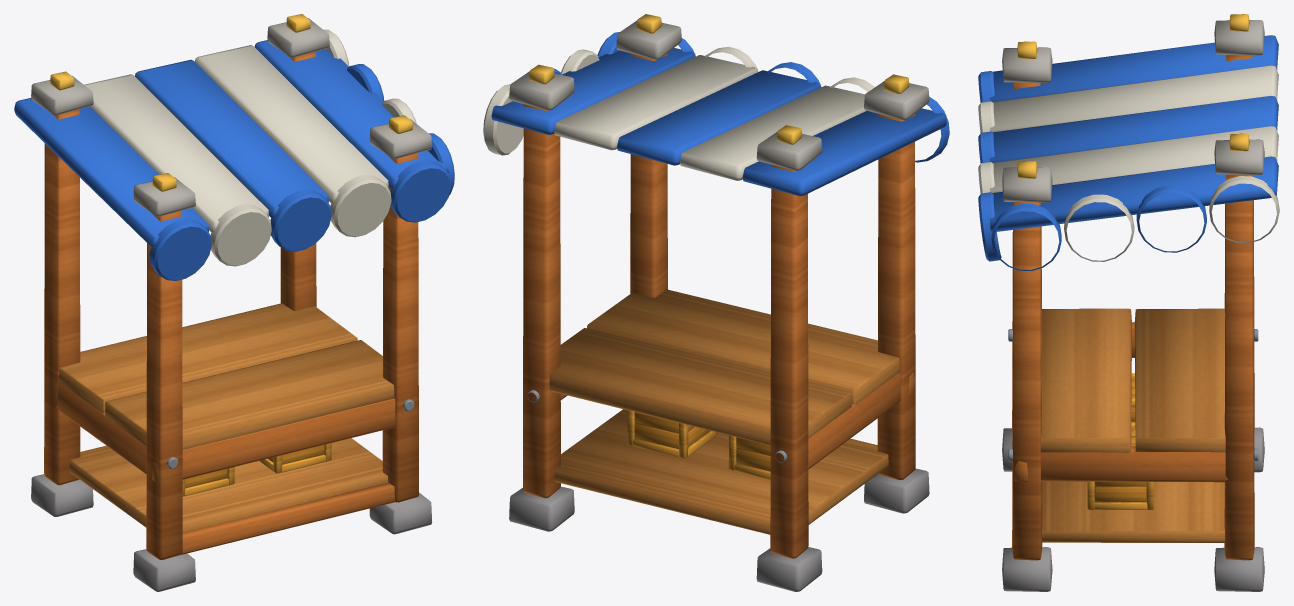
The model's file is OBJ05_market_stall.glb.
The picture shows the model from 3 angles, left to right: view 1: azimuth 30°, elevation 25°; view 2: azimuth 150°, elevation 25°; view 3: azimuth 270°, elevation 25°; orthographic projection. The views are drawn at different scales.
Parts seen in each view (by area): view 1: AwningBlue, AwningWhite, CounterBoard_1, CounterBoard_0, Shelf, Post_-1_-1, Post_-1_1, Post_1_1, CounterFrontRail, ShelfRail, CounterSideRail_-1, Post_1_-1 (+7 smaller); view 2: AwningBlue, CounterBoard_0, Shelf, AwningWhite, Post_-1_-1, CounterBoard_1, Post_1_-1, Post_-1_1, Post_1_1, CounterSideRail_-1, Foot_-1_-1, Foot_1_-1 (+6 smaller); view 3: AwningBlue, AwningWhite, CounterBoard_1, CounterBoard_0, Post_1_-1, Post_1_1, Shelf, CounterSideRail_1, Foot_1_-1, Foot_1_1, Cap_-1_-1, Cap_1_1 (+8 smaller).
Boxes of the visible parts, x1,y1,x2,y2 form: AwningBlue: [14, 40, 454, 280]; AwningWhite: [84, 29, 416, 266]; CounterBoard_1: [105, 340, 394, 449]; CounterBoard_0: [58, 303, 357, 413]; Shelf: [69, 438, 388, 532]; Post_-1_-1: [44, 109, 80, 485]; Post_-1_1: [146, 210, 182, 559]; Post_1_1: [382, 153, 418, 502]; CounterFrontRail: [152, 398, 395, 483]; ShelfRail: [182, 482, 395, 554]; CounterSideRail_-1: [56, 382, 146, 474]; Post_1_-1: [280, 51, 316, 310]; AwningBlue: [491, 32, 949, 196]; CounterBoard_0: [549, 328, 851, 445]; Shelf: [555, 409, 888, 534]; AwningWhite: [483, 46, 874, 180]; Post_-1_-1: [770, 164, 808, 558]; CounterBoard_1: [587, 289, 899, 404]; Post_1_-1: [523, 104, 560, 498]; Post_-1_1: [877, 114, 915, 479]; Post_1_1: [630, 53, 667, 297]; CounterSideRail_-1: [807, 372, 900, 469]; Foot_-1_-1: [756, 547, 822, 591]; Foot_1_-1: [509, 486, 574, 531]; AwningBlue: [978, 35, 1278, 270]; AwningWhite: [978, 65, 1279, 261]; CounterBoard_1: [1041, 308, 1131, 452]; CounterBoard_0: [1134, 308, 1225, 452]; Post_1_-1: [1224, 174, 1254, 560]; Post_1_1: [1012, 202, 1042, 560]; Shelf: [1042, 481, 1224, 542]; CounterSideRail_1: [1041, 446, 1228, 482]; Foot_1_-1: [1214, 547, 1264, 591]; Foot_1_1: [1002, 547, 1052, 591]; Cap_-1_-1: [1214, 20, 1264, 55]; Cap_1_1: [1002, 167, 1052, 202].
Bounding box in the file's own units: 1.45 × 1.95 × 1.19.
Materials: 10 (4 with a texture image).
